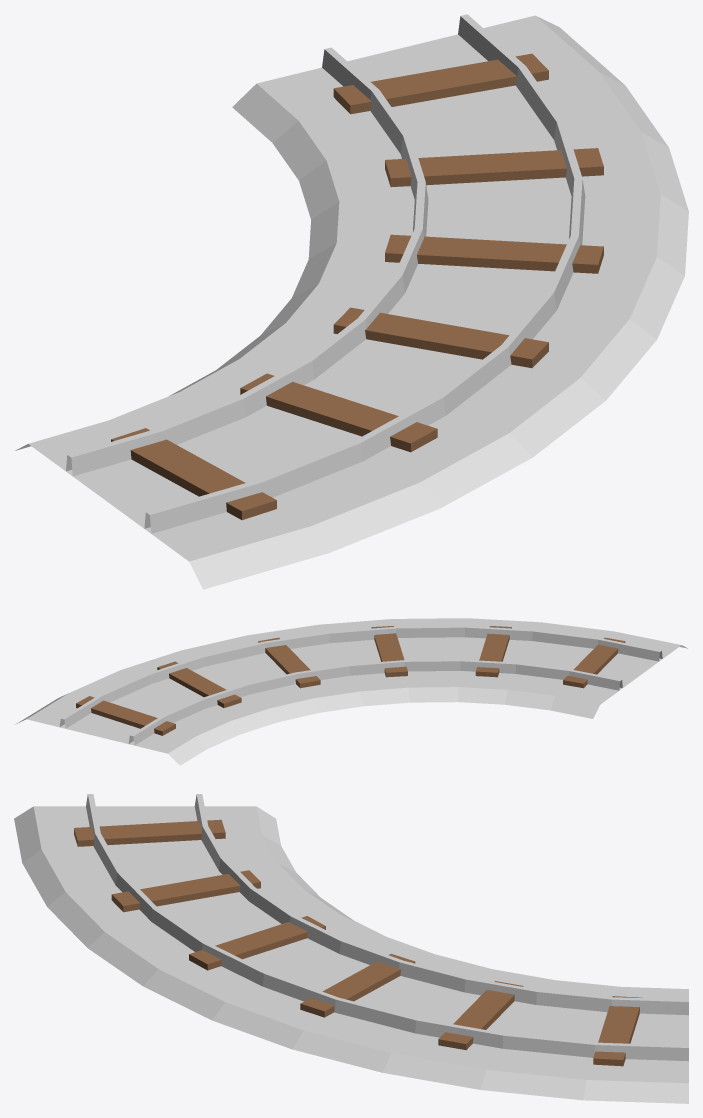
Rendered from 1_curve_small.fbx.
The picture shows the model from 3 angles, top to bottom: view 1: azimuth 30°, elevation 25°; view 2: azimuth 150°, elevation 25°; view 3: azimuth 270°, elevation 25°; orthographic projection. The views are drawn at different scales.
Parts seen in each view (by area): view 1: 1_curve_small; view 2: 1_curve_small; view 3: 1_curve_small.
Part boxes in pixels (bbox=[...]): 1_curve_small: bbox=[15, 14, 688, 589]; 1_curve_small: bbox=[15, 618, 687, 765]; 1_curve_small: bbox=[14, 794, 688, 1103].
Bounding box in the file's own units: 4.96 × 0.2 × 4.96.
